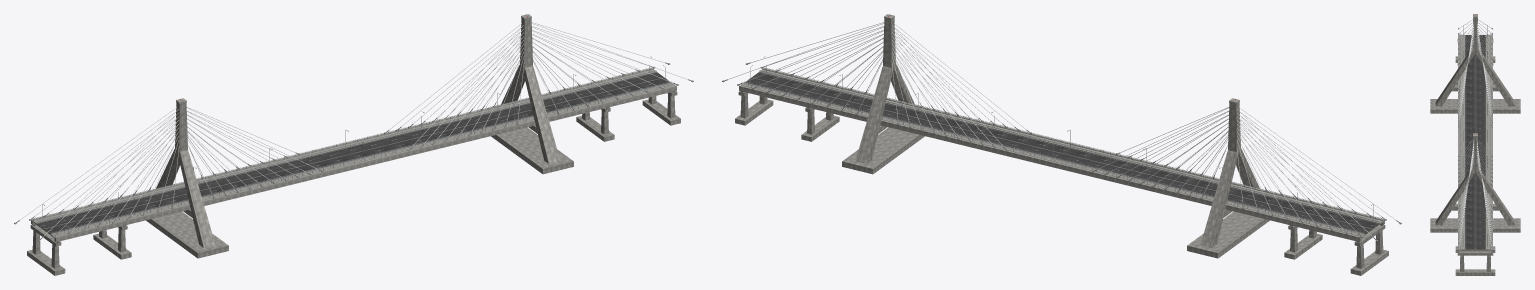
Rendered from cable-stayed-bridge.glb.
The picture shows the model from 3 angles, left to right: view 1: azimuth 30°, elevation 25°; view 2: azimuth 150°, elevation 25°; view 3: azimuth 270°, elevation 25°; orthographic projection. The views are drawn at different scales.
Visible parts, largest first — view 1: Roadway, Stay cables, Deck girder, Footways, Pylon legs, Pile caps, Traffic barriers, Transition piers, Kerbs, Auxiliary piers, Pylon shafts, Railings (+1 smaller); view 2: Roadway, Stay cables, Deck girder, Footways, Pylon legs, Pile caps, Traffic barriers, Transition piers, Kerbs, Auxiliary piers, Pylon shafts, Railings (+1 smaller); view 3: Roadway, Stay cables, Pylon legs, Footways, Pile caps, Deck girder, Transition piers, Pylon shafts, Kerbs, Railings, Stay dampers, Stay anchors (+3 smaller).
Part boxes in pixels (x1,y1,x2,y2): Roadway: [36, 72, 670, 234]; Stay cables: [19, 22, 688, 236]; Deck girder: [31, 68, 676, 242]; Footways: [33, 69, 674, 236]; Pylon legs: [156, 65, 560, 247]; Pile caps: [146, 127, 573, 258]; Traffic barriers: [36, 70, 671, 233]; Transition piers: [27, 91, 680, 275]; Kerbs: [35, 71, 671, 234]; Auxiliary piers: [93, 107, 614, 259]; Pylon shafts: [174, 14, 532, 154]; Railings: [33, 67, 674, 235]; Roadway: [745, 72, 1379, 234]; Stay cables: [727, 22, 1396, 236]; Deck girder: [739, 68, 1384, 242]; Footways: [741, 69, 1382, 236]; Pylon legs: [855, 64, 1259, 247]; Pile caps: [842, 127, 1269, 258]; Traffic barriers: [744, 70, 1379, 233]; Transition piers: [735, 91, 1388, 275]; Kerbs: [744, 71, 1380, 234]; Auxiliary piers: [801, 107, 1322, 259]; Pylon shafts: [883, 14, 1241, 154]; Railings: [741, 67, 1382, 235]; Roadway: [1465, 35, 1485, 249]; Stay cables: [1459, 19, 1491, 250]; Pylon legs: [1435, 49, 1515, 225]; Footways: [1460, 34, 1490, 249]; Pile caps: [1430, 99, 1520, 232]; Deck girder: [1458, 34, 1492, 252]; Transition piers: [1455, 39, 1495, 275]; Pylon shafts: [1472, 14, 1478, 172]; Kerbs: [1464, 34, 1486, 249]; Railings: [1460, 33, 1490, 248]; Stay dampers: [1458, 33, 1492, 253]; Stay anchors: [1458, 28, 1492, 254].
Bounding box in the file's own units: 380 × 73 × 64.
12 materials, 12 textured.
